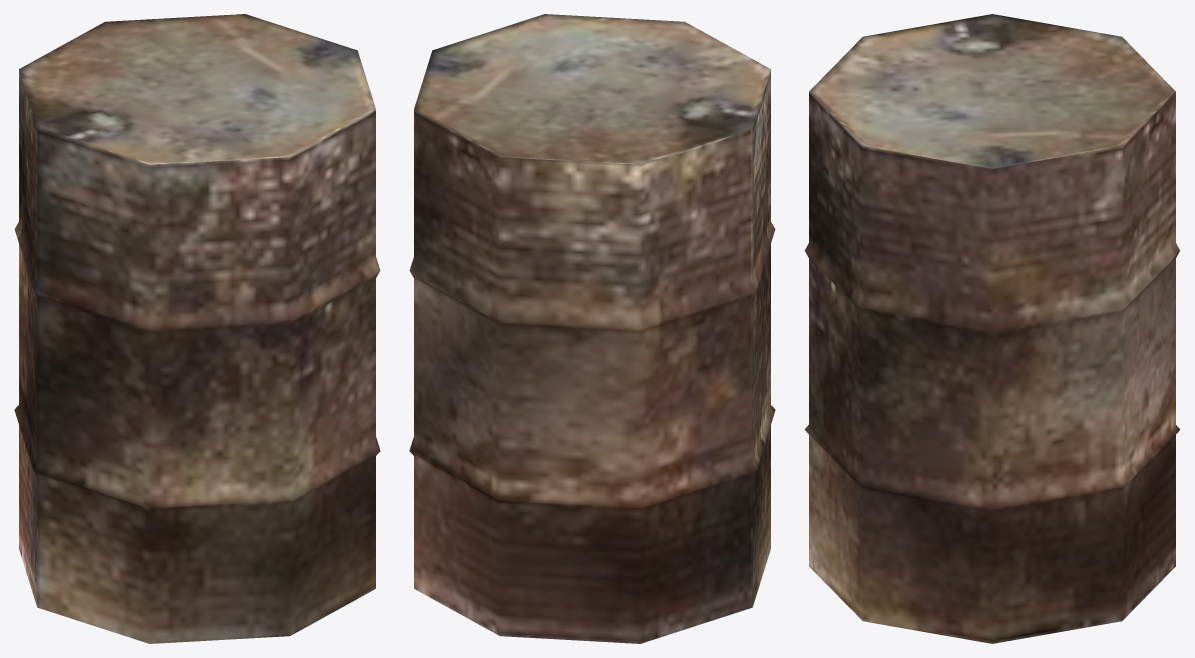
Rendered from psx_industrial_pack_barrel_oil.glb.
The picture shows the model from 3 angles, left to right: view 1: azimuth 30°, elevation 25°; view 2: azimuth 150°, elevation 25°; view 3: azimuth 270°, elevation 25°; orthographic projection.
Parts seen in each view (by area): view 1: BarrelOil; view 2: BarrelOil; view 3: BarrelOil.
Boxes of the visible parts, bbox=[...] form: BarrelOil: bbox=[14, 14, 380, 643]; BarrelOil: bbox=[409, 14, 775, 643]; BarrelOil: bbox=[804, 14, 1180, 643].
Size of the model in its own units: 0.7175 by 1 by 0.7175.
1 material, 1 textured.
